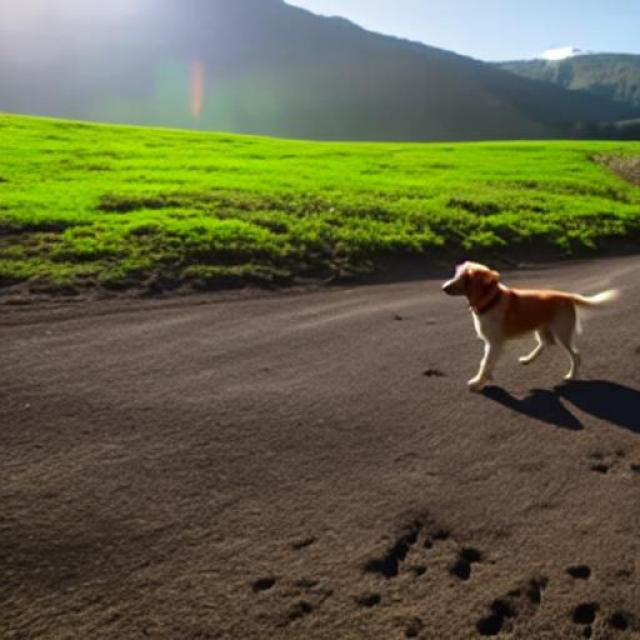Dog: (440, 260, 620, 390)
